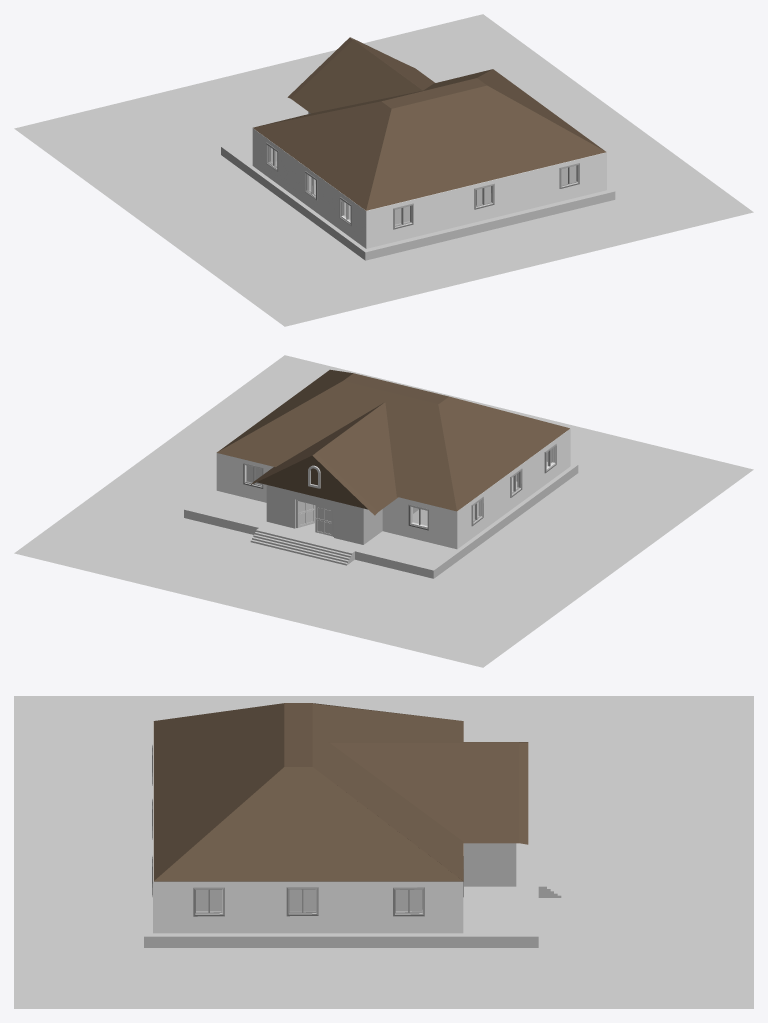
Rendered from dom.fbx.
3 views of the same model, one above another, from view 1: azimuth 30°, elevation 25°; view 2: azimuth 150°, elevation 25°; view 3: azimuth 270°, elevation 25° (orthographic). The views are drawn at different scales.
Visible parts, largest first — view 1: Plane, Cube.018, Cube, Cube.032, Cube.016; view 2: Plane, Cube.018, Cube.032, Cube, Cube.013; view 3: Plane, Cube.018, Cube.032, Cube, Cube.013, Cube.024, Cube.011, Cube.012, Cube.010.
Part boxes in pixels (x1,y1,x2,y2): Plane: [14, 14, 753, 326]; Cube.018: [253, 37, 606, 210]; Cube: [252, 128, 606, 248]; Cube.032: [221, 139, 615, 260]; Cube.016: [395, 165, 576, 224]; Plane: [14, 355, 753, 667]; Cube.018: [216, 369, 569, 515]; Cube.032: [184, 462, 578, 578]; Cube: [216, 428, 570, 549]; Cube.013: [266, 485, 382, 544]; Plane: [14, 696, 753, 1008]; Cube.018: [153, 703, 528, 881]; Cube.032: [144, 770, 564, 947]; Cube: [153, 721, 463, 933]; Cube.013: [464, 843, 516, 886]; Cube.024: [196, 889, 421, 911]; Cube.011: [286, 887, 318, 916]; Cube.012: [393, 887, 424, 916]; Cube.010: [193, 887, 224, 916].
Size of the model in its own units: 9381 by 2555 by 9381.
